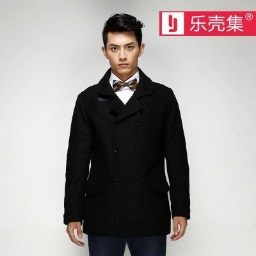face: (101, 14, 146, 75)
